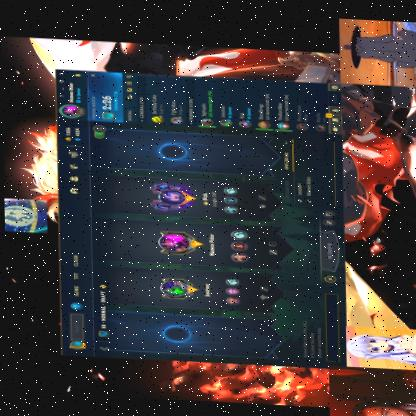streamer: (348, 377, 416, 416)
